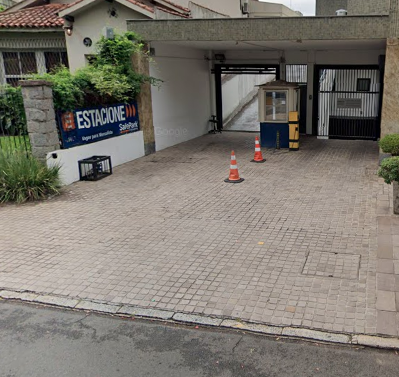vag14: (1, 242, 389, 363)
